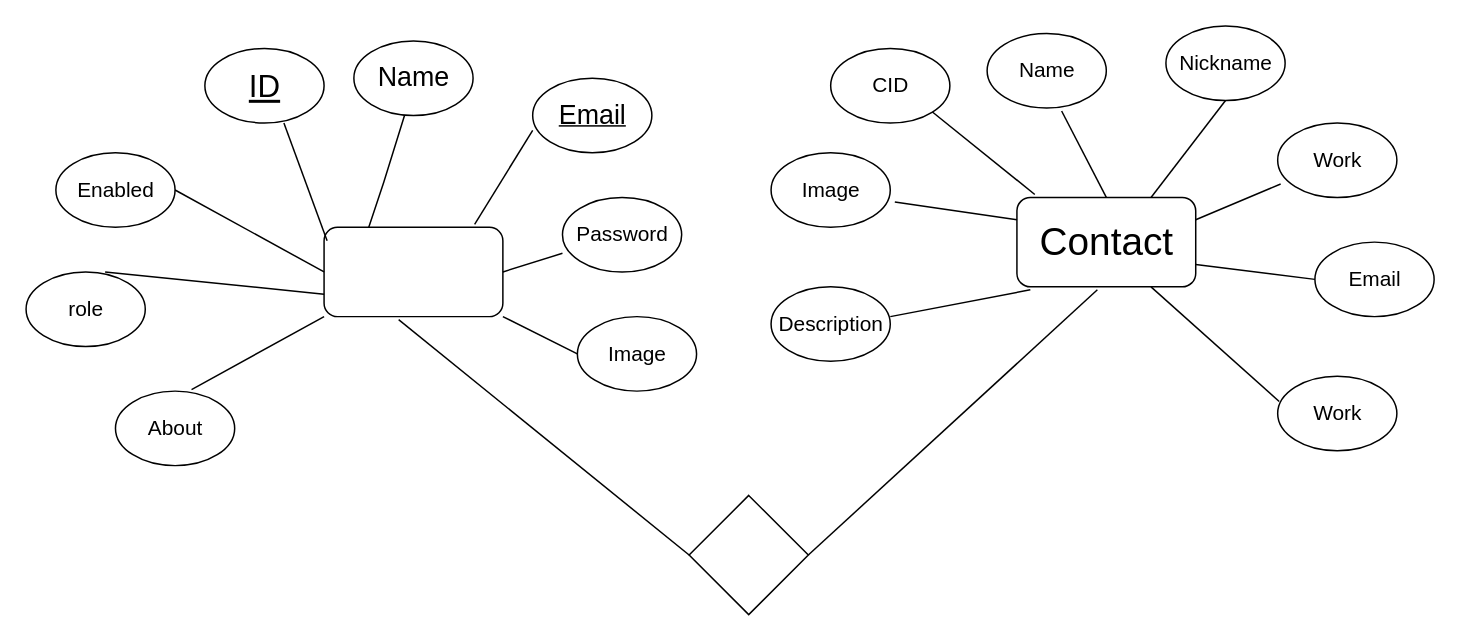
Image size: 1460x641. Some labels were removed from this diagram. Here are the shapes that lost their labels. From the top down, the box of each, then its label:
(323, 226, 503, 317): User
(688, 494, 808, 615): has
